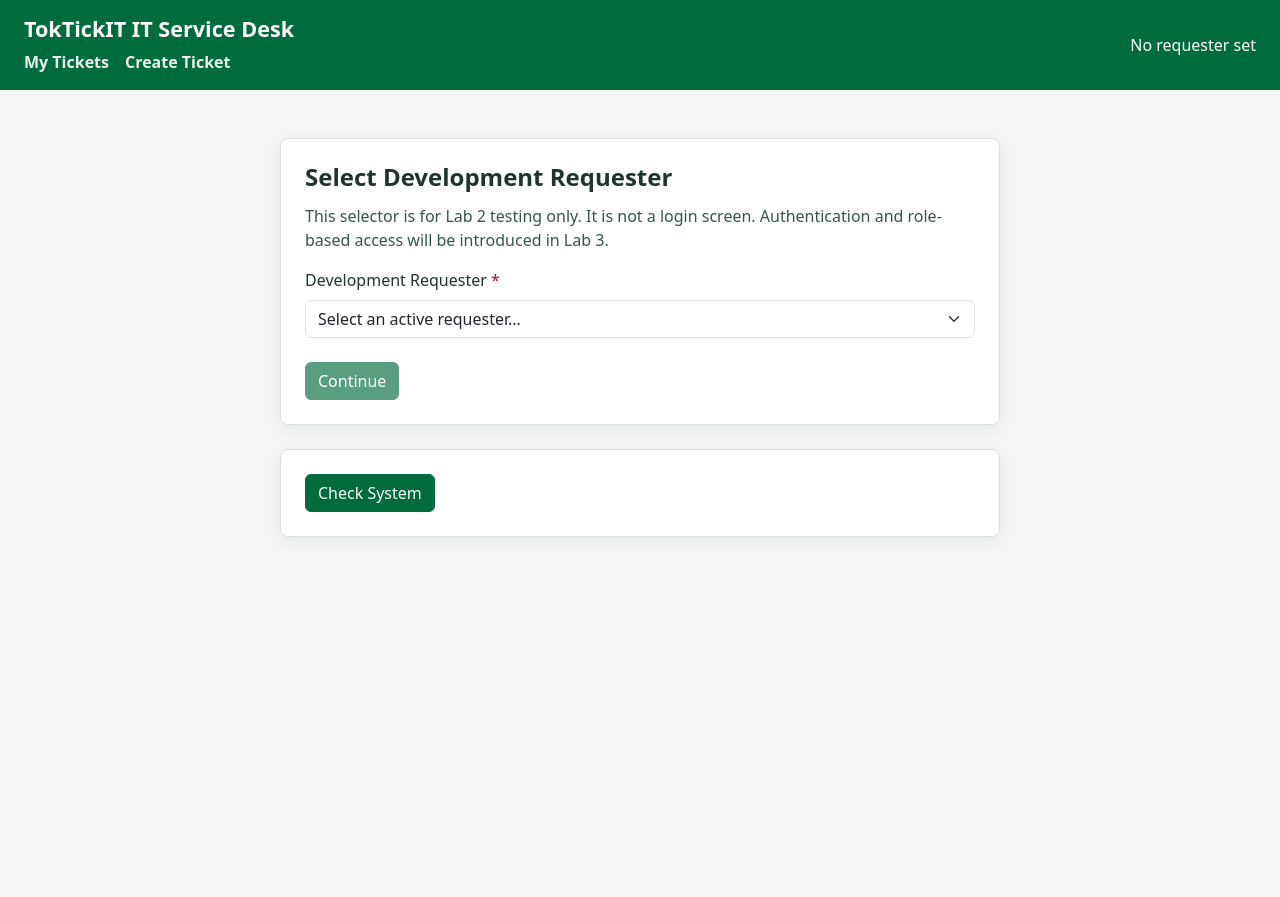
Test: Requester Ticket Detail › shows a safe failure state with retry
Select "Anong Student (anong@example.test)" in the dropdown labelled "Development Requester *": (640, 319) [305,300,975,338]
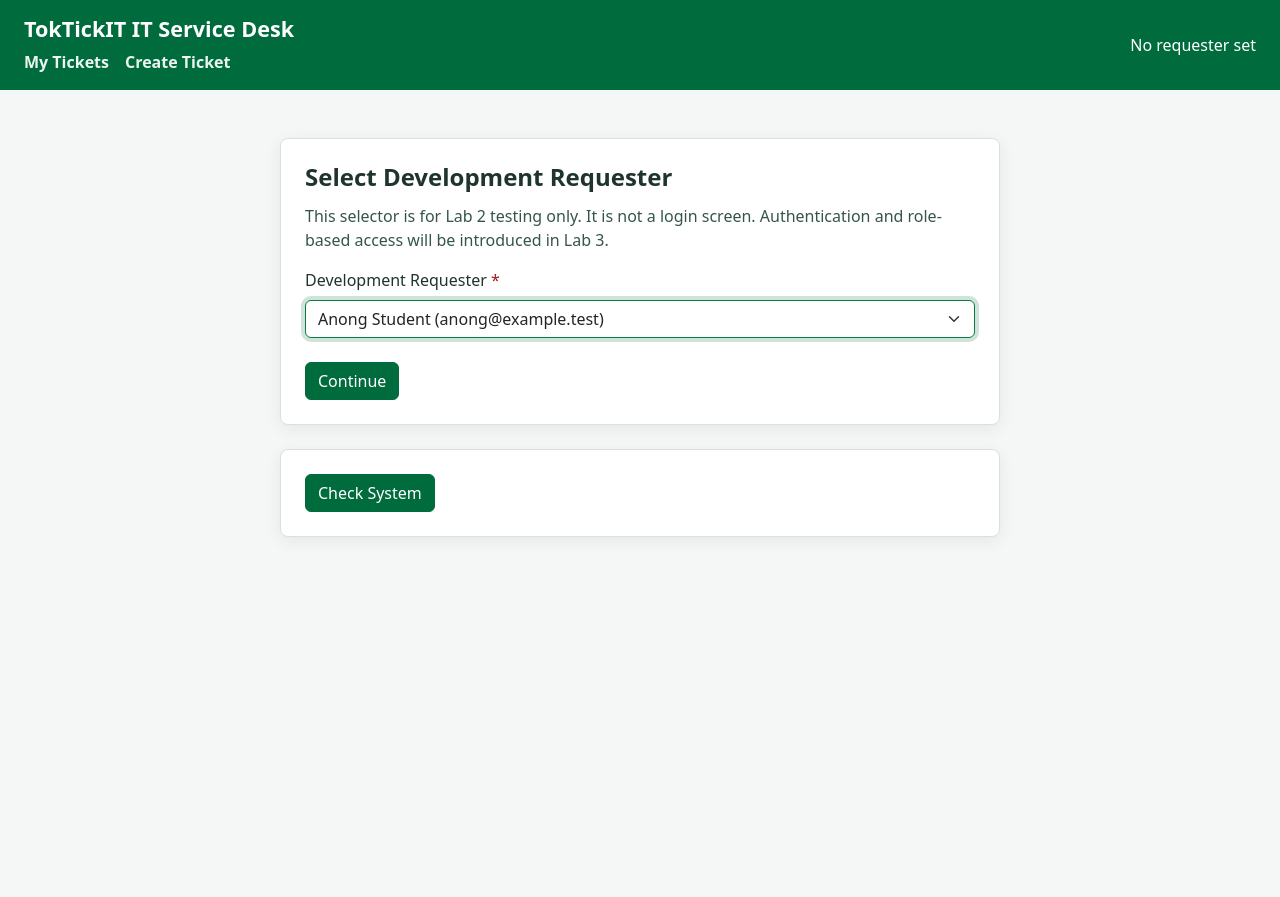
Click the button "Continue": click(352, 381) [305,362,399,400]
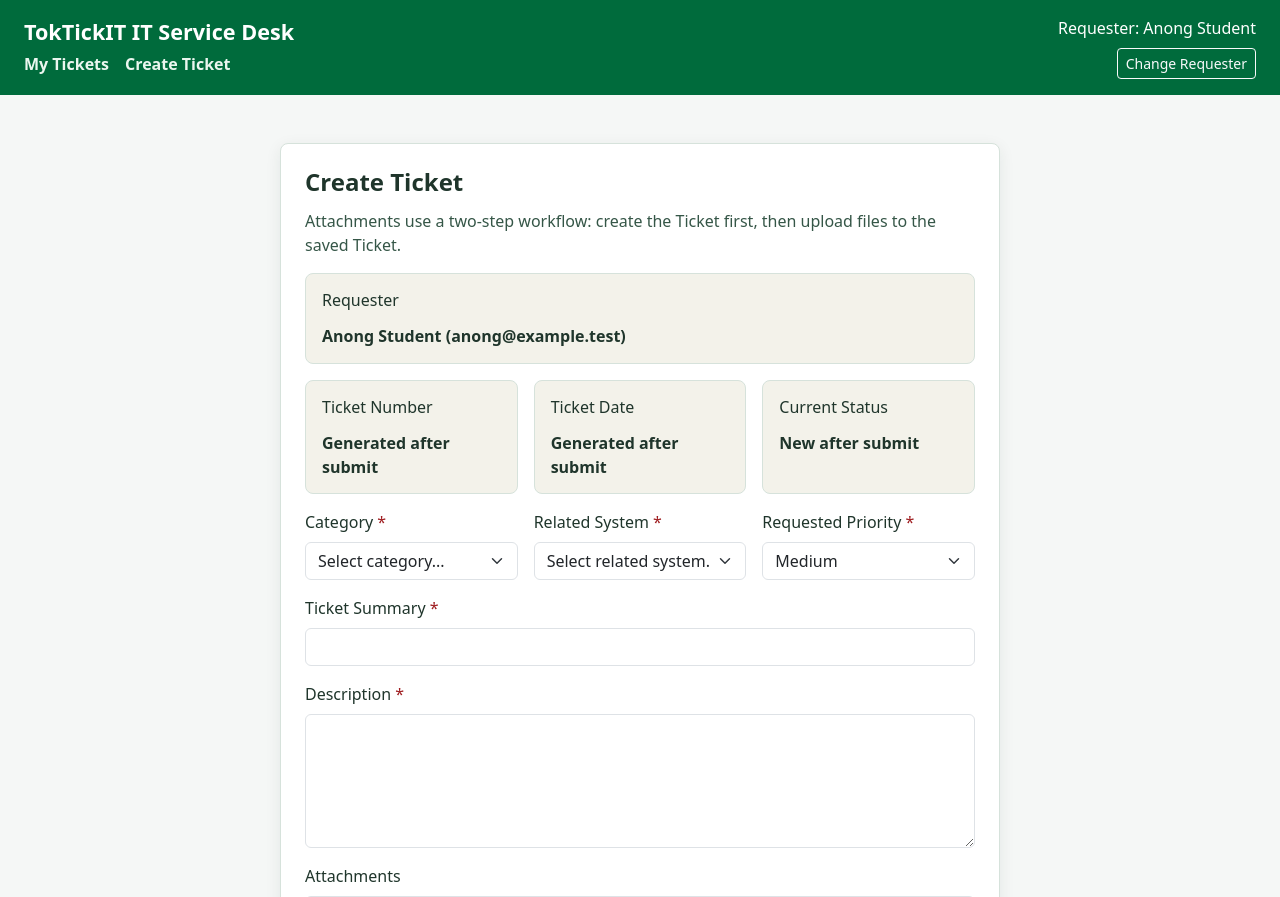
Click the link "My Tickets": click(66, 64) [24,52,109,76]
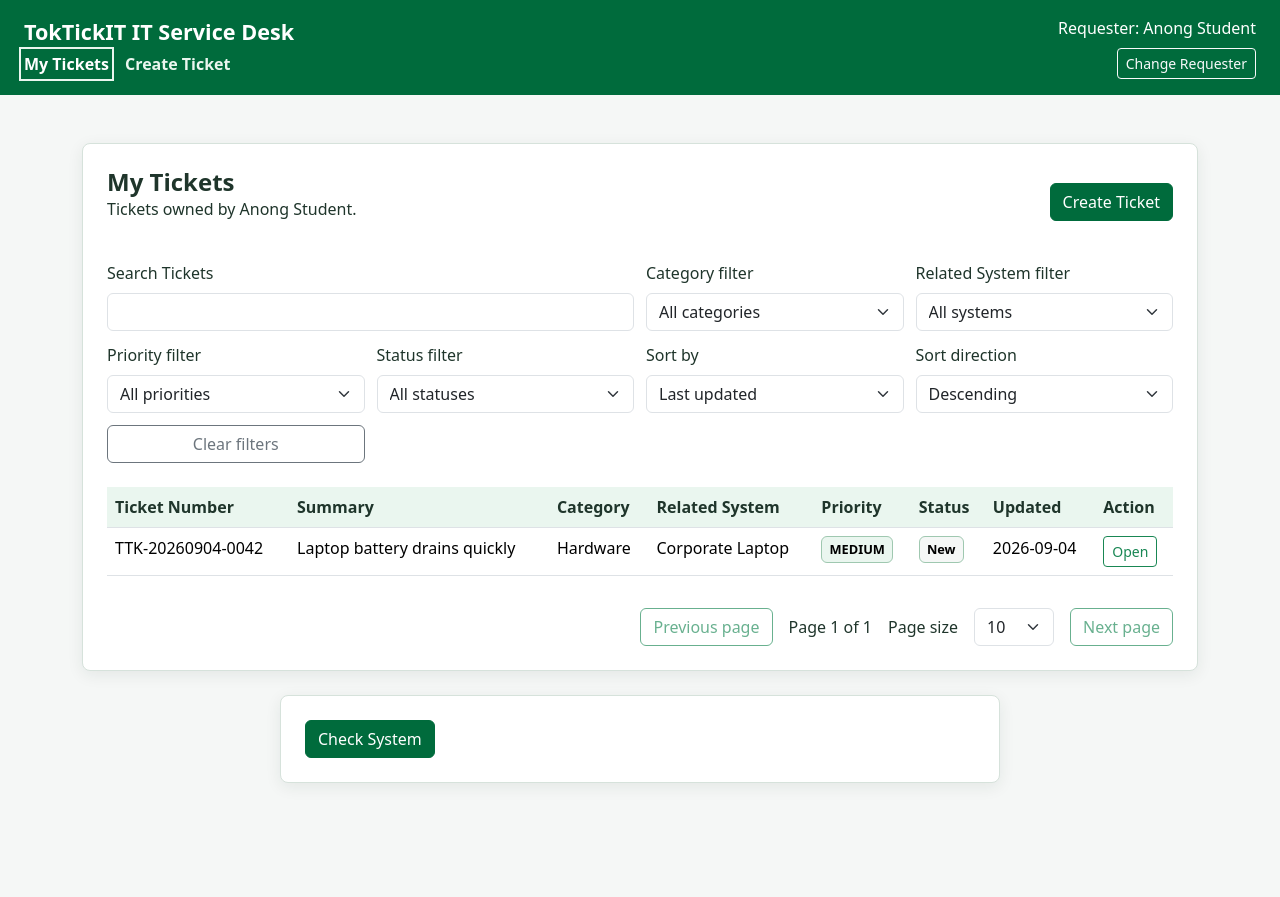
Click the button with aria-label "Open Ticket TTK-20260904-0042": click(1130, 551) [1103,536,1157,567]
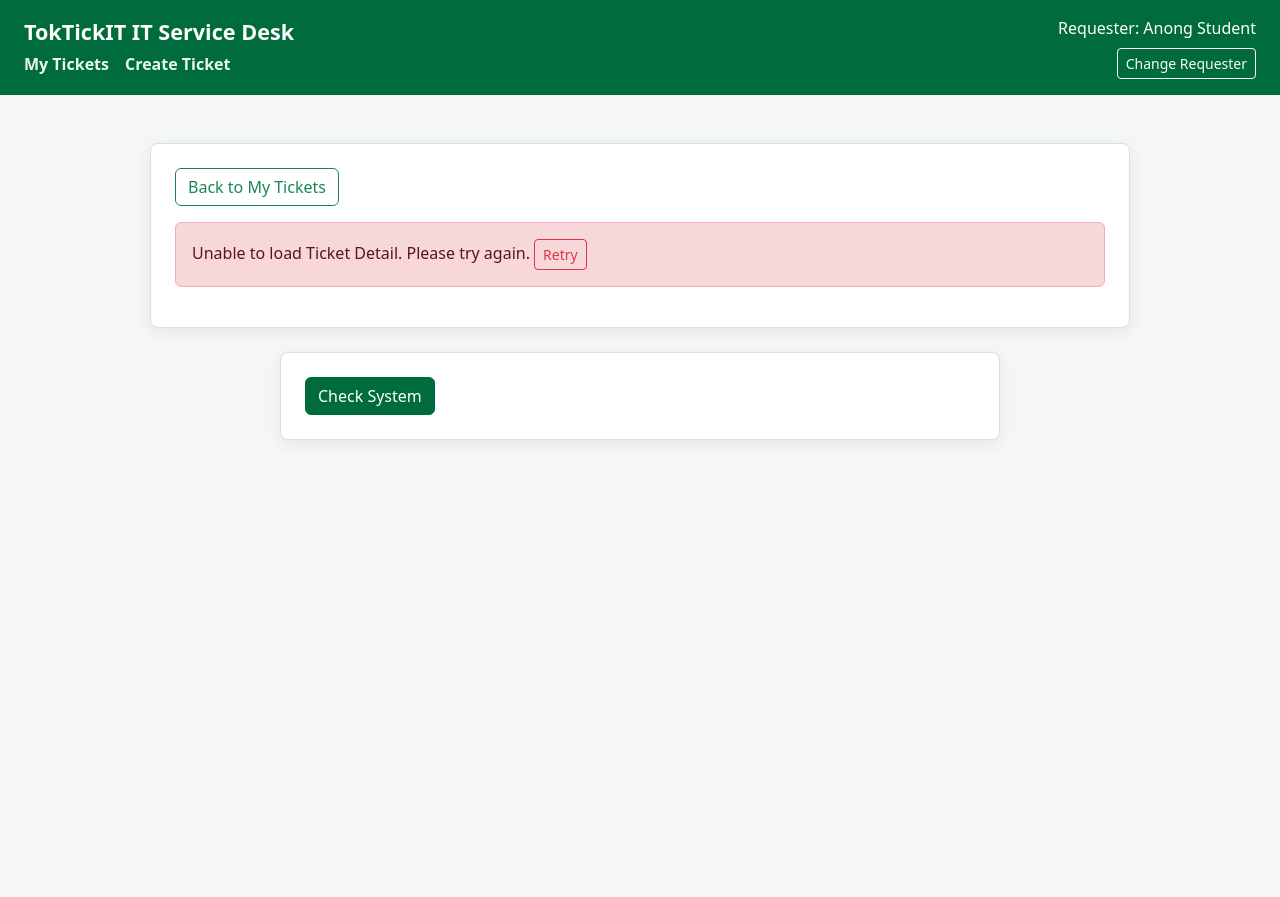
Check: the message shows "Unable to load Ticket Detail", box [192,242,530,264]
Check: the button "Retry" is shown, box [534,239,587,270]
